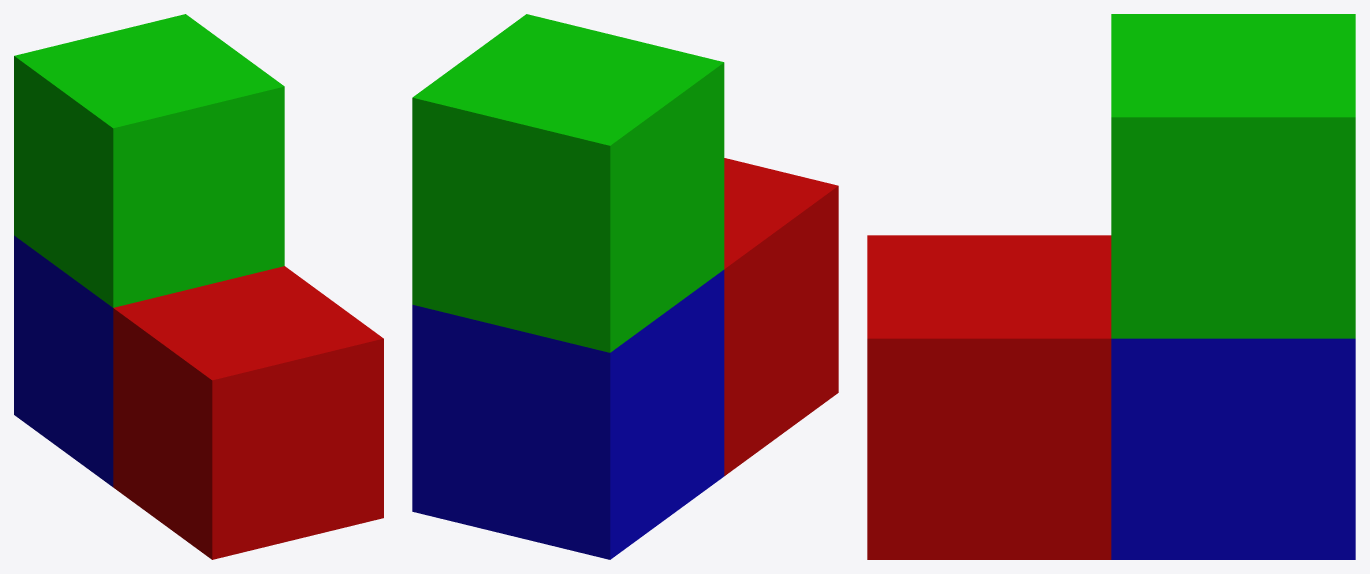
File: testBlend.obj
The picture shows the model from 3 angles, left to right: view 1: azimuth 30°, elevation 25°; view 2: azimuth 150°, elevation 25°; view 3: azimuth 270°, elevation 25°; orthographic projection. The views are drawn at different scales.
Parts seen in each view (by area): view 1: Cube.001, Cube.002, Cube; view 2: Cube.002, Cube, Cube.001; view 3: Cube.001, Cube.002, Cube.
Boxes of the visible parts, left/top/right/bottom form: Cube.001: left=113, top=266, right=383, bottom=559; Cube.002: left=14, top=14, right=284, bottom=307; Cube: left=14, top=235, right=113, bottom=486; Cube.002: left=412, top=14, right=724, bottom=352; Cube: left=412, top=270, right=724, bottom=559; Cube.001: left=724, top=158, right=838, bottom=475; Cube.001: left=867, top=235, right=1111, bottom=559; Cube.002: left=1111, top=14, right=1355, bottom=338; Cube: left=1111, top=338, right=1355, bottom=559.
Bounding box in the file's own units: 2 × 4 × 4.
